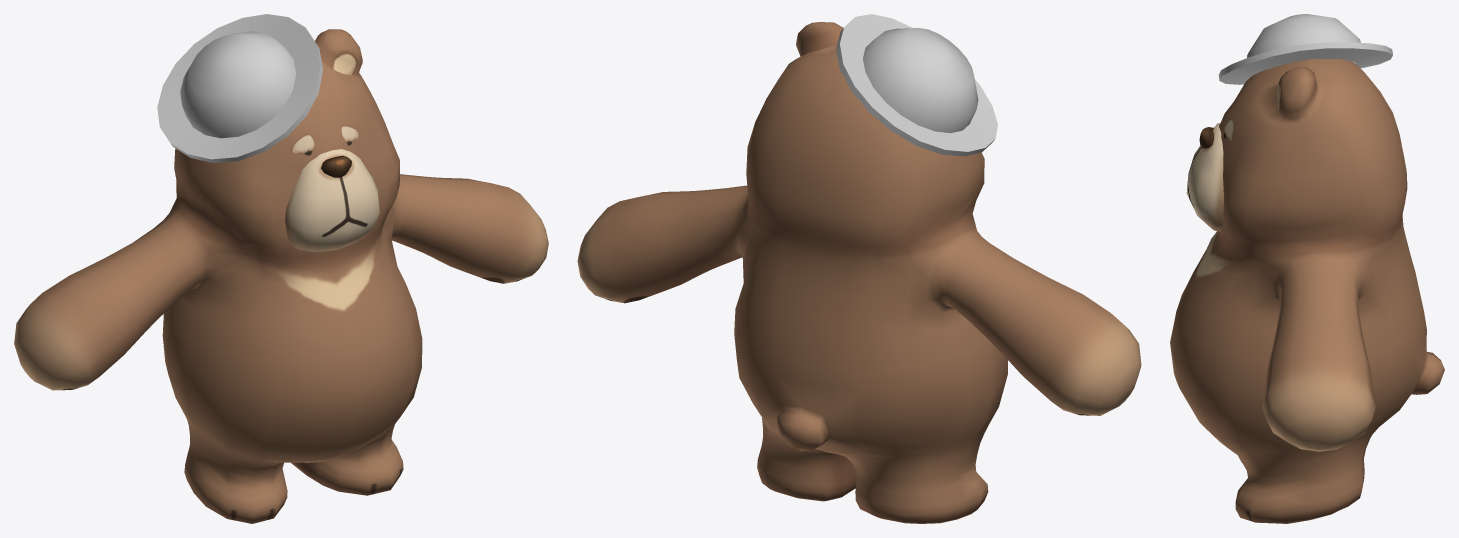
Rendered from bear_Lv1.fbx.
3 renders of one model, left to right at view 1: azimuth 30°, elevation 25°; view 2: azimuth 150°, elevation 25°; view 3: azimuth 270°, elevation 25°, orthographic. The views are drawn at different scales.
Visible parts, largest first — view 1: bear, hat; view 2: bear, hat; view 3: bear, hat.
Boxes of the visible parts, x1,y1,x2,y2 form: bear: [14, 29, 548, 523]; hat: [157, 14, 322, 162]; bear: [577, 22, 1141, 523]; hat: [836, 14, 997, 156]; bear: [1170, 58, 1444, 523]; hat: [1218, 14, 1392, 84].
Bounding box in the file's own units: 212 × 181 × 100.
